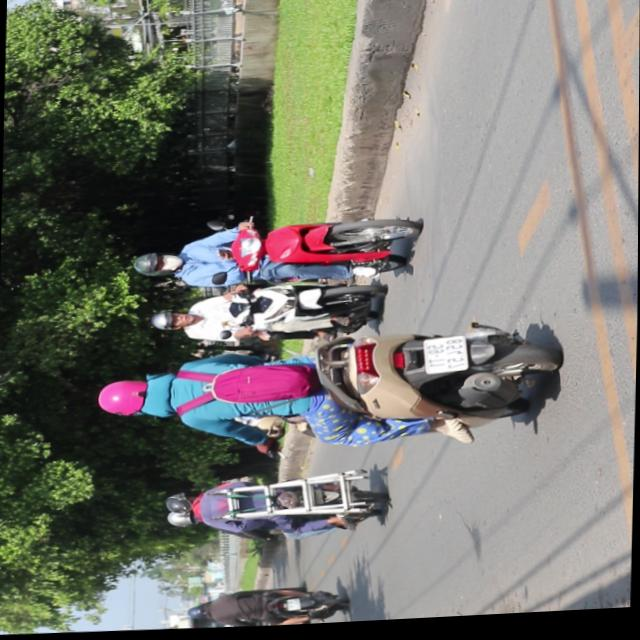helmet: (94, 373, 170, 421), (132, 251, 180, 278), (150, 310, 191, 333), (163, 493, 194, 514), (163, 509, 194, 529)
licenseplate: (91, 316, 562, 467), (129, 206, 421, 299), (161, 465, 390, 549), (145, 278, 385, 350)
nohelmet: (422, 338, 468, 379)
